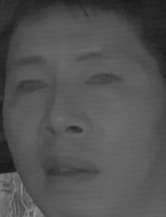eye: (84, 69, 121, 91), (14, 76, 49, 98)
mouth: (33, 151, 103, 188)
